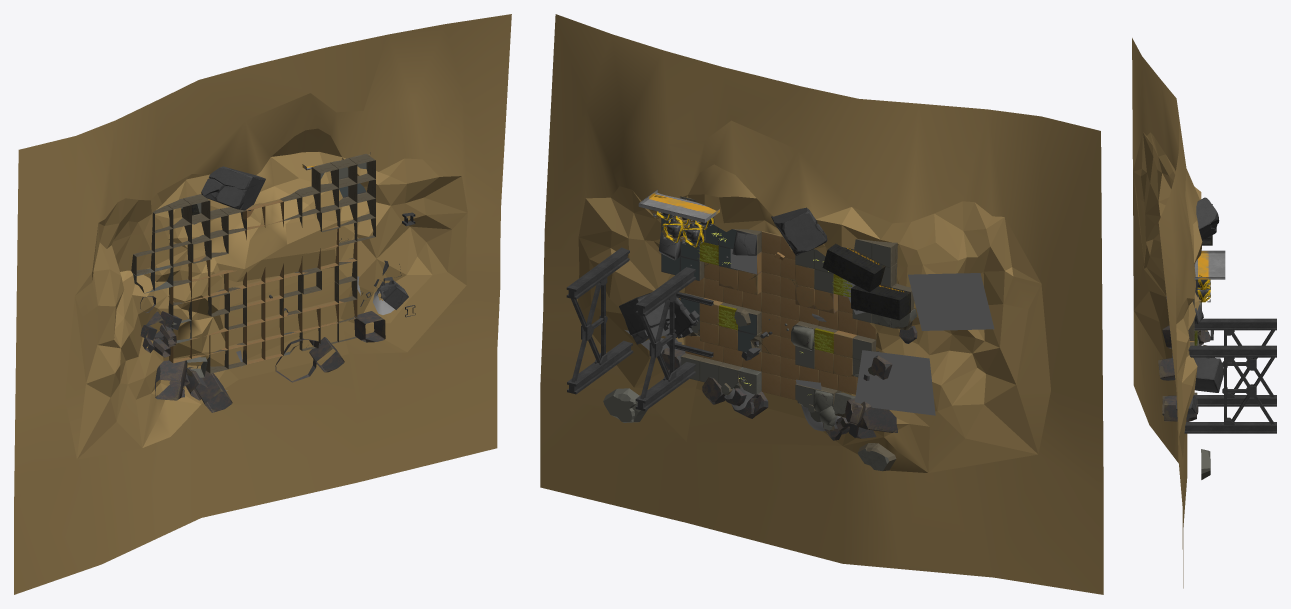
The picture shows the model from 3 angles, left to right: view 1: azimuth 30°, elevation 25°; view 2: azimuth 150°, elevation 25°; view 3: azimuth 270°, elevation 25°; orthographic projection. The views are drawn at different scales.
Parts seen in each view (by area): view 1: background_sand, S_Outworld_sandAlpha_017, S_Outworld_stone_079, S_Outworld_stone_074, S_Outworld_stone_045, S_Ground_out_14_031; view 2: background_sand, S_Outworld_sandAlpha_017, S_Outworld_sandAlpha_01, S_Outworld_sandAlpha_03, S_Sundries_14_014, S_Sundries_14_09, S_Sundries_14_015, S_Outworld_stone_074, S_Outworld_stone_079, S_Sundries_14_01, S_Outworld_prop_00, S_Sundries_14_04 (+2 smaller); view 3: background_sand, S_Sundries_14_014, S_Sundries_14_09, S_Outworld_stone_074, S_Outworld_prop_00, S_Outworld_sandAlpha_017, S_Outworld_stone_079, S_Outworld_stone_045, S_Sundries_14_04, S_Outworld_stone_072.
Part boxes in pixels (bbox=[...]): background_sand: bbox=[14, 14, 511, 594]; S_Outworld_sandAlpha_017: bbox=[140, 296, 344, 412]; S_Outworld_stone_079: bbox=[201, 166, 265, 210]; S_Outworld_stone_074: bbox=[352, 260, 408, 314]; S_Outworld_stone_045: bbox=[354, 311, 385, 342]; S_Ground_out_14_031: bbox=[330, 158, 357, 188]; background_sand: bbox=[540, 14, 1103, 594]; S_Outworld_sandAlpha_017: bbox=[702, 326, 917, 440]; S_Outworld_sandAlpha_01: bbox=[908, 273, 994, 330]; S_Outworld_sandAlpha_03: bbox=[854, 350, 935, 415]; S_Sundries_14_014: bbox=[566, 247, 633, 394]; S_Sundries_14_09: bbox=[635, 267, 695, 410]; S_Sundries_14_015: bbox=[822, 243, 885, 292]; S_Outworld_stone_074: bbox=[619, 292, 699, 344]; S_Outworld_stone_079: bbox=[771, 207, 827, 255]; S_Sundries_14_01: bbox=[851, 284, 910, 320]; S_Outworld_prop_00: bbox=[638, 189, 719, 222]; S_Sundries_14_04: bbox=[653, 211, 714, 247]; background_sand: bbox=[1132, 38, 1202, 588]; S_Sundries_14_014: bbox=[1184, 345, 1276, 433]; S_Sundries_14_09: bbox=[1194, 318, 1276, 406]; S_Outworld_stone_074: bbox=[1176, 357, 1223, 414]; S_Outworld_prop_00: bbox=[1194, 250, 1225, 279]; S_Outworld_sandAlpha_017: bbox=[1158, 296, 1210, 415]; S_Outworld_stone_079: bbox=[1196, 197, 1219, 239]; S_Outworld_stone_045: bbox=[1164, 396, 1197, 421]; S_Sundries_14_04: bbox=[1195, 279, 1210, 302]; S_Outworld_stone_072: bbox=[1201, 449, 1210, 479].
Bounding box in the file's own units: 0.2788 × 0.2312 × 0.0815.
Materials: 4 (3 with a texture image).
